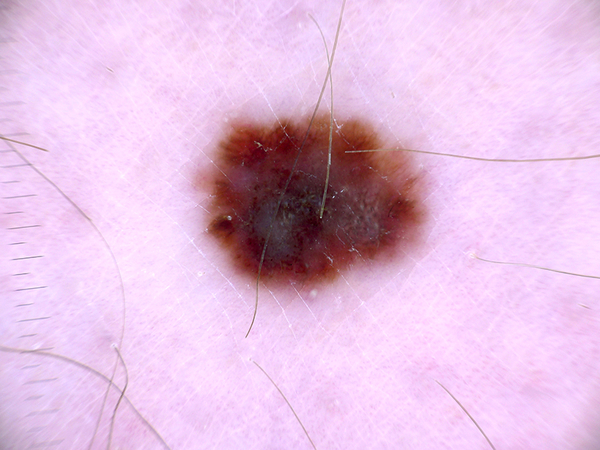Detected Lesion: (198, 105, 436, 299)
